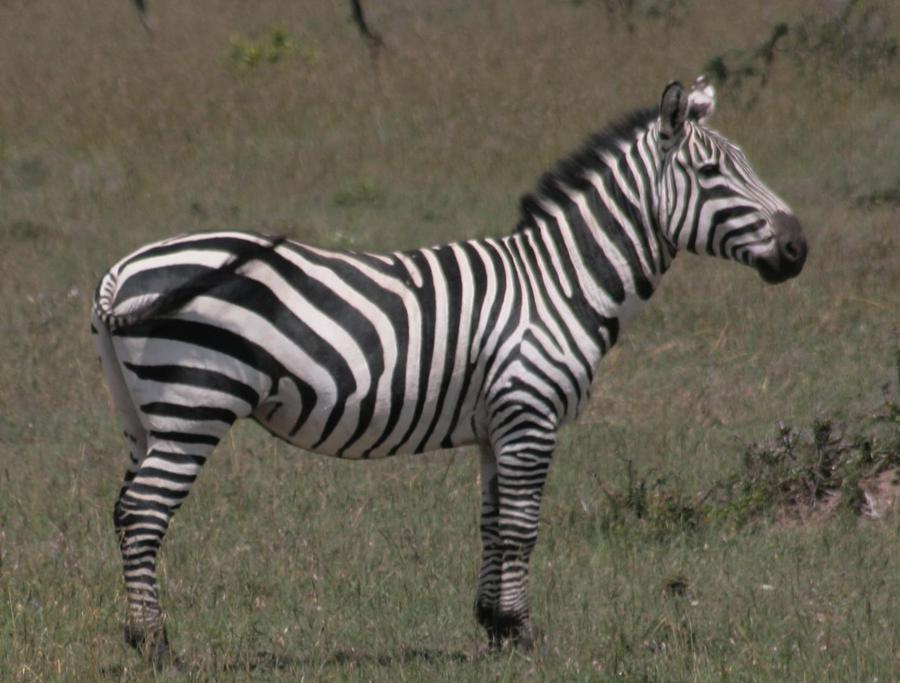zebra_plains: (95, 195, 599, 479)
